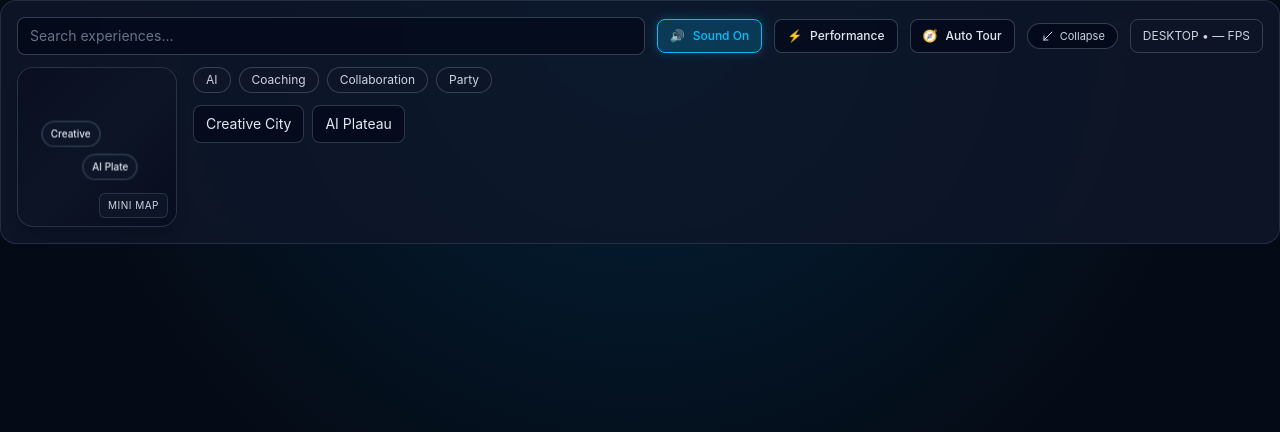
Scenario: Navigator › toggles tag filter
This screenshot has width=1280, height=432.
Click the button "AI" at (212, 80), box [193,67,230,93]
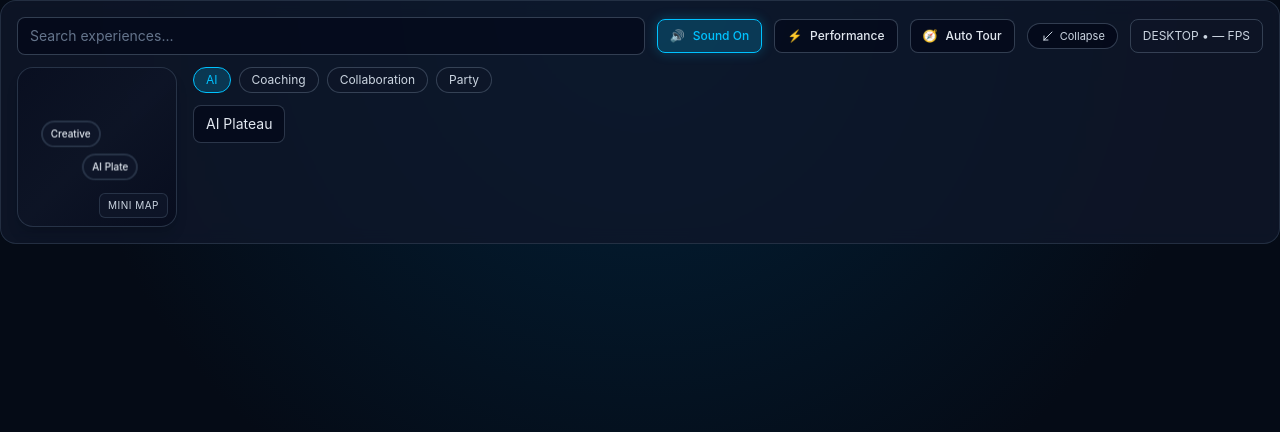
Expected: the button "AI Plateau" is shown, [193,105,285,143]
Expected: the button "Creative City" is gone
